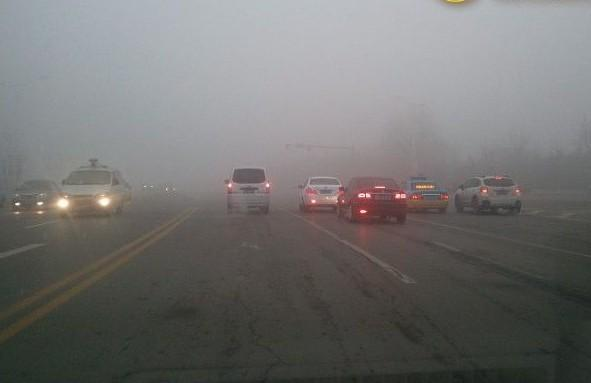car: (58, 156, 133, 218), (337, 173, 410, 226), (451, 173, 523, 213), (223, 164, 274, 216), (393, 174, 452, 213), (7, 176, 64, 214), (293, 175, 348, 214)
